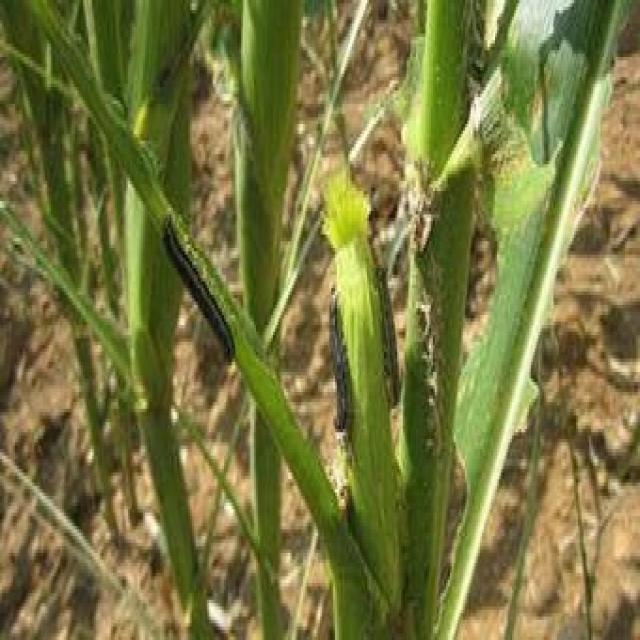pest: (159, 222, 238, 364), (380, 260, 410, 412), (330, 300, 363, 435)
